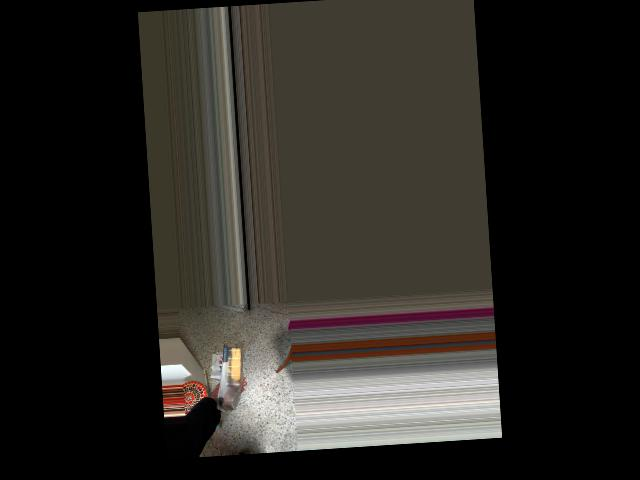cheese: (213, 345, 246, 410)
